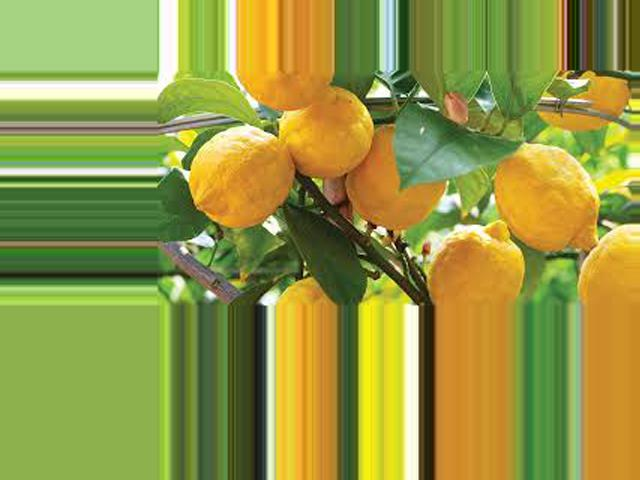lemon: (177, 115, 300, 220)
